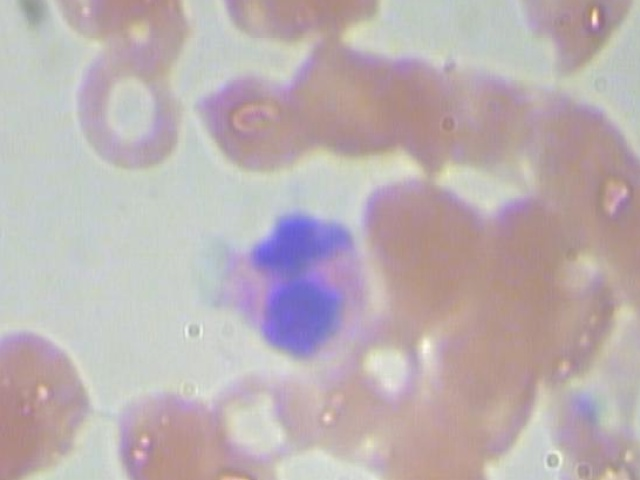RBC: (286, 30, 415, 171), (361, 168, 493, 292), (59, 46, 189, 171), (0, 324, 99, 474), (187, 59, 308, 180), (204, 359, 322, 465), (112, 380, 233, 480), (506, 0, 640, 82), (335, 309, 430, 420), (81, 0, 201, 71), (212, 0, 386, 48)
WBC: (211, 210, 372, 368)
